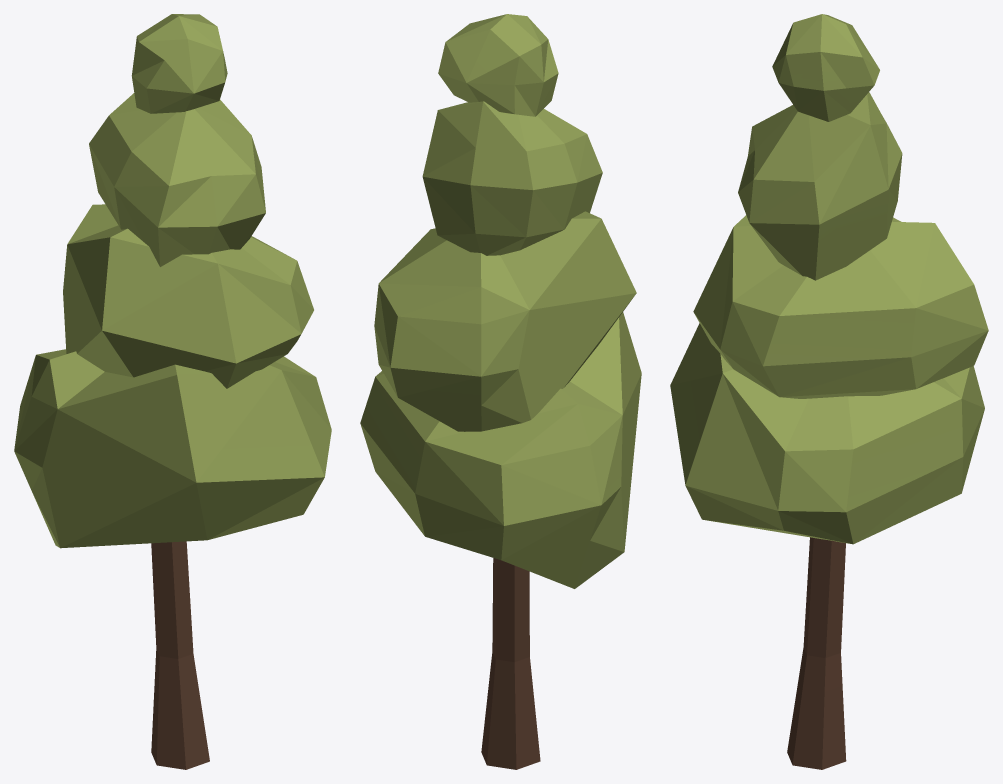
The model's file is tree8.glb.
3 views of the same model, side by side, from view 1: azimuth 30°, elevation 25°; view 2: azimuth 150°, elevation 25°; view 3: azimuth 270°, elevation 25° (orthographic).
Parts seen in each view (by area): view 1: tree18; view 2: tree18; view 3: tree18.
Part boxes in pixels (x1=…): tree18: x1=14, y1=14, x2=331, y2=769; tree18: x1=360, y1=14, x2=641, y2=769; tree18: x1=670, y1=14, x2=988, y2=769.
Bounding box in the file's own units: 2 × 5.38 × 2.09.
Materials: 1 (1 with a texture image).
